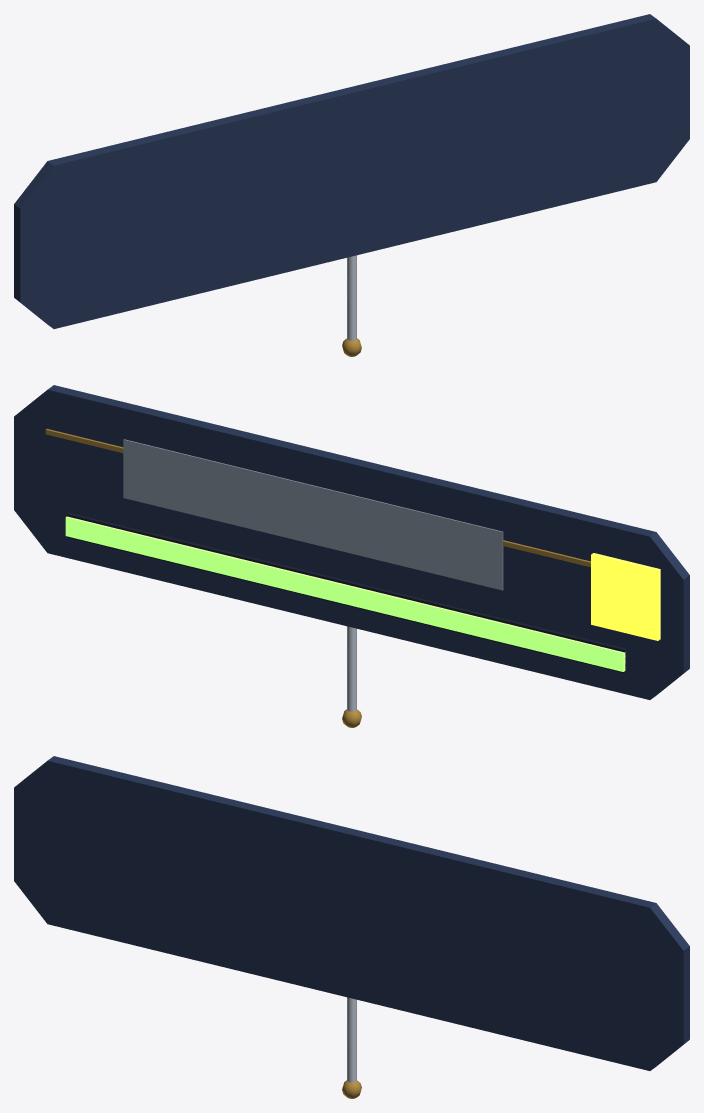
File: ui_nameplate.glb
3 views of the same model, one above another, from view 1: azimuth 30°, elevation 25°; view 2: azimuth 150°, elevation 25°; view 3: azimuth 330°, elevation 25° (orthographic).
Parts seen in each view (by area): view 1: nameplate_plate, nameplate_pin; view 2: nameplate_plate, nameplate_text, nameplate_hp, nameplate_chip, nameplate_hp_track, nameplate_rule, nameplate_pin; view 3: nameplate_plate, nameplate_pin.
Part boxes in pixels (bbox=[...]): nameplate_plate: bbox=[14, 14, 689, 328]; nameplate_pin: bbox=[347, 255, 356, 340]; nameplate_plate: bbox=[14, 385, 689, 699]; nameplate_text: bbox=[123, 439, 503, 590]; nameplate_hp: bbox=[65, 516, 625, 671]; nameplate_chip: bbox=[591, 553, 660, 640]; nameplate_hp_track: bbox=[67, 512, 626, 673]; nameplate_rule: bbox=[45, 429, 590, 567]; nameplate_pin: bbox=[347, 626, 356, 711]; nameplate_plate: bbox=[14, 756, 689, 1070]; nameplate_pin: bbox=[347, 997, 356, 1082].
Size of the model in its own units: 0.6 by 0.228 by 0.0195.
